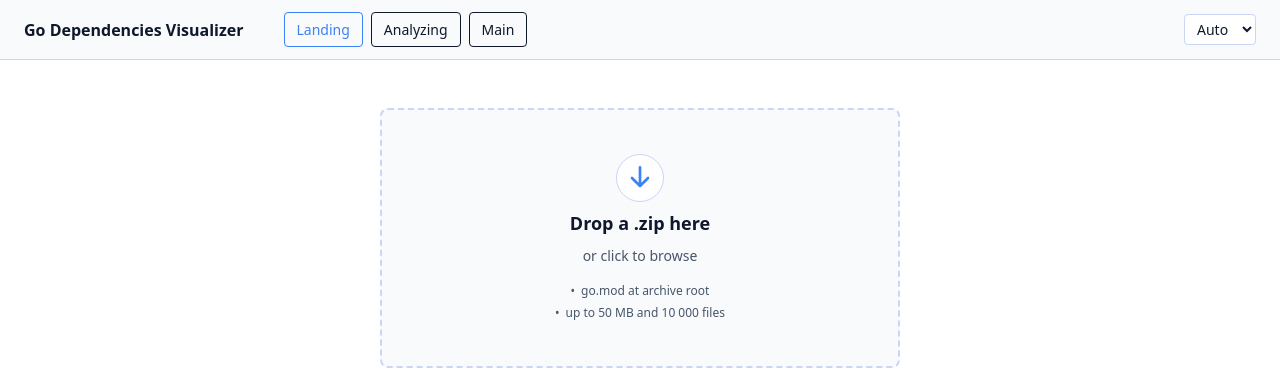
it: App › renders the 3-column main layout when navigating to main
Click the button "Main" at coordinates (498, 30), box x1=468 y1=12 x2=527 y2=47
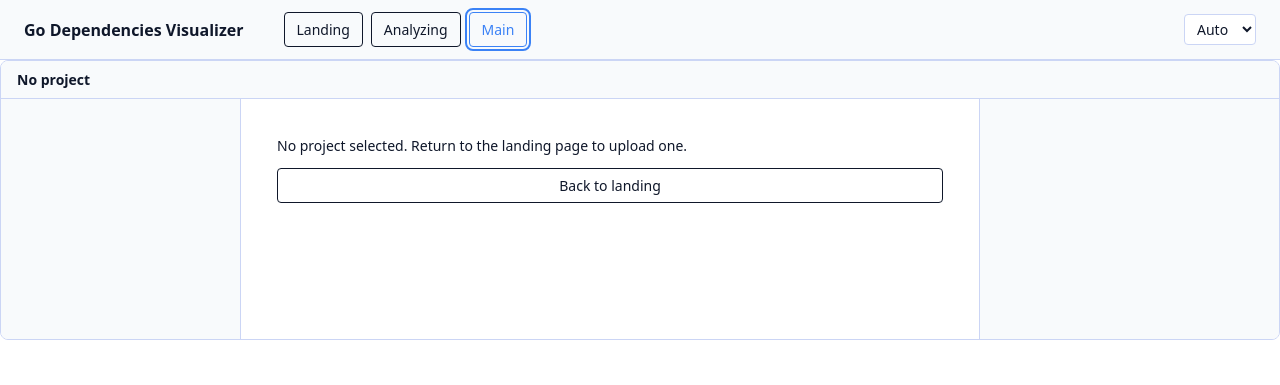
expect the element with test id "layout-left-rail" is shown: met, box x1=1 y1=99 x2=241 y2=339
expect the element with test id "layout-main" is shown: met, box x1=277 y1=136 x2=943 y2=203
expect the element with test id "layout-right-rail" is shown: met, box x1=979 y1=99 x2=1279 y2=339
